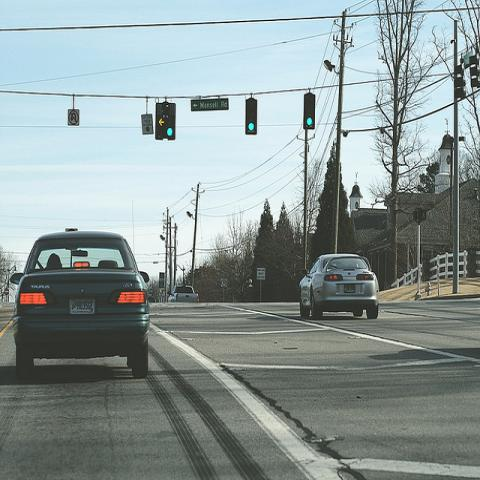car: (7, 229, 152, 385), (298, 253, 378, 320)
truck: (169, 284, 199, 302)
